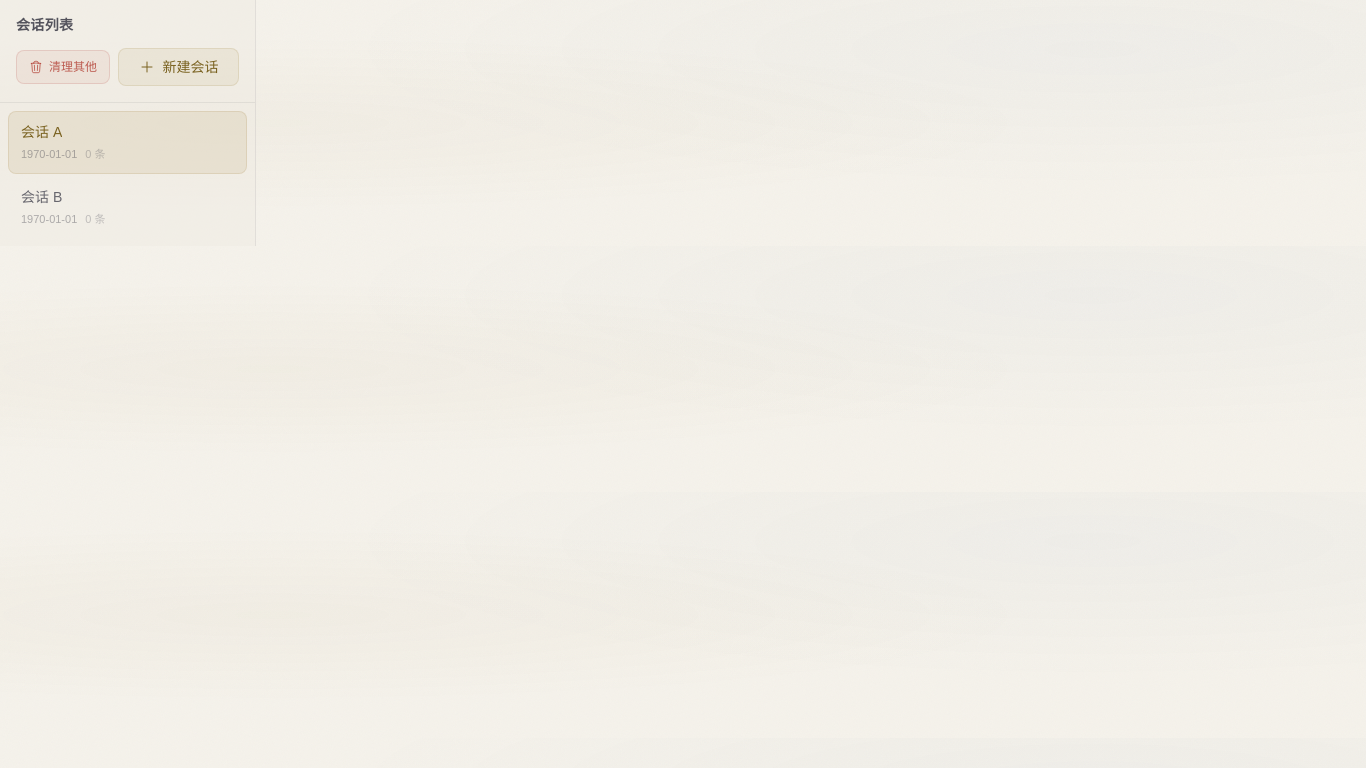
Test: ThreadList 清理其他按钮 - always-visible 两态渲染 › A2: 2+ 会话时,按钮 enabled 且带文字「清理其他」,点击打开 cleanup modal
Click the button with aria-label "清理其他会话": click(63, 67) [16, 50, 110, 84]
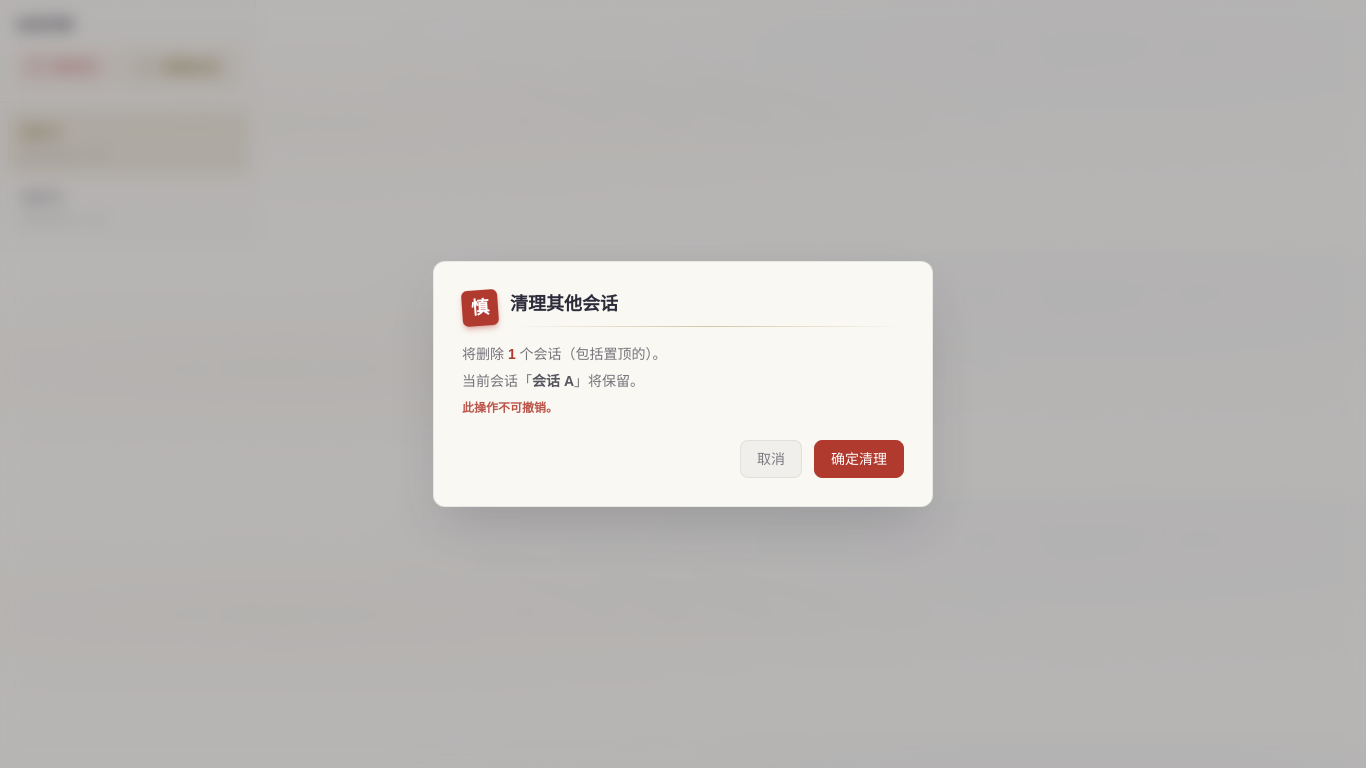
Expected: the dialog "清理其他会话" is shown, [433, 261, 933, 507]
Expected: the dialog "清理其他会话" shows "1", [508, 346, 516, 362]
Expected: the dialog "清理其他会话" shows "会话 A", [532, 372, 574, 388]
